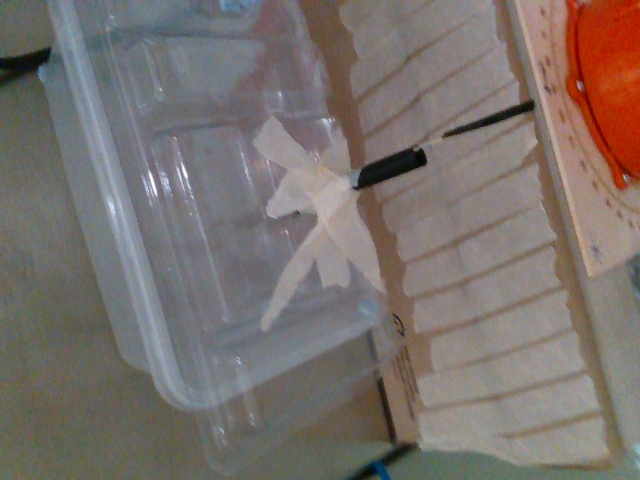test_strip: (413, 97, 535, 147)
